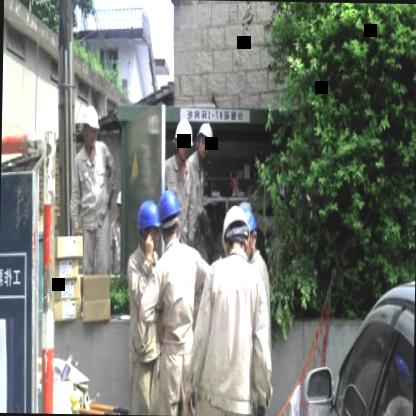helmet: (222, 201, 258, 263), (134, 197, 163, 266), (156, 189, 183, 249), (76, 102, 99, 152), (172, 117, 192, 160), (195, 119, 214, 159), (242, 200, 250, 260)
